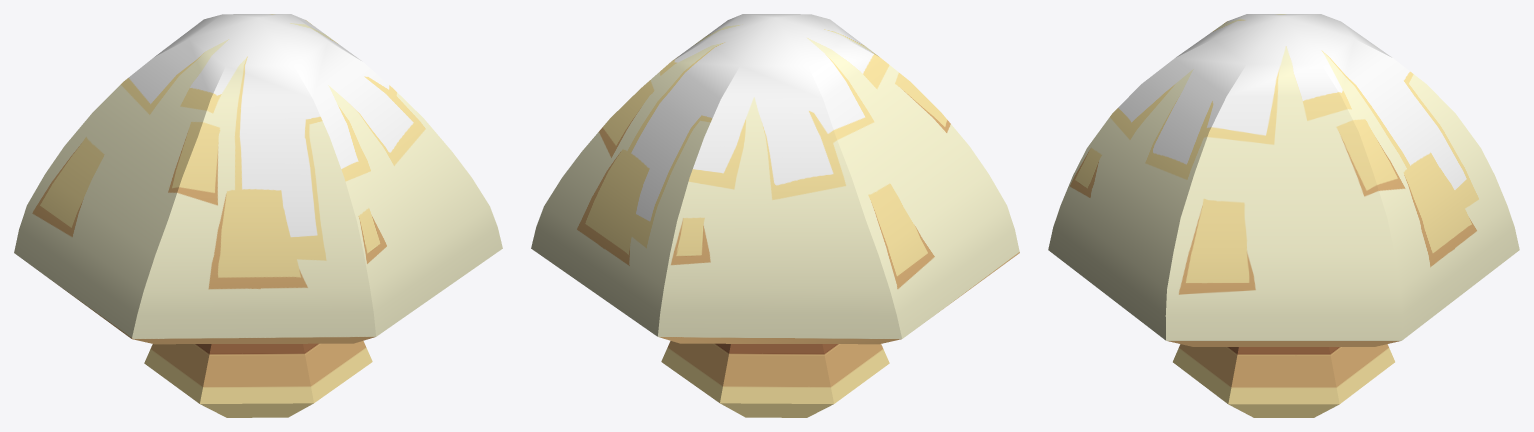
The model's file is mushroomWhole3_-_smoother.fbx.
3 views of the same model, side by side, from view 1: azimuth 30°, elevation 25°; view 2: azimuth 150°, elevation 25°; view 3: azimuth 270°, elevation 25° (orthographic).
Parts seen in each view (by area): view 1: mushroomWhole; view 2: mushroomWhole; view 3: mushroomWhole.
Boxes of the visible parts, x1,y1,x2,y2 form: mushroomWhole: (14, 14, 502, 417); mushroomWhole: (531, 14, 1019, 417); mushroomWhole: (1048, 14, 1519, 417).
Bounding box in the file's own units: 531 × 516 × 583.
1 material, 1 textured.
